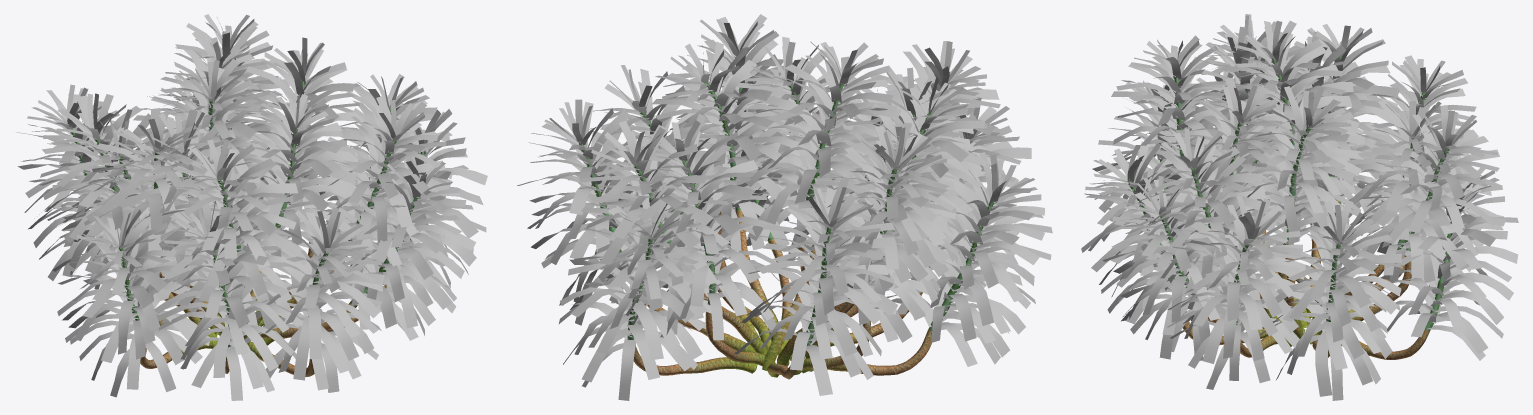
The model's file is bush_01.fbx.
The picture shows the model from 3 angles, left to right: view 1: azimuth 30°, elevation 25°; view 2: azimuth 150°, elevation 25°; view 3: azimuth 270°, elevation 25°; orthographic projection. The views are drawn at different scales.
Visible parts, largest first — view 1: kkviz euphorbia characias_01; view 2: kkviz euphorbia characias_01; view 3: kkviz euphorbia characias_01.
Boxes of the visible parts, x1=… form: kkviz euphorbia characias_01: x1=16, y1=14, x2=487, y2=400; kkviz euphorbia characias_01: x1=517, y1=14, x2=1052, y2=400; kkviz euphorbia characias_01: x1=1081, y1=14, x2=1518, y2=400.
Size of the model in its own units: 166 by 112 by 153.
3 materials, 2 textured.
